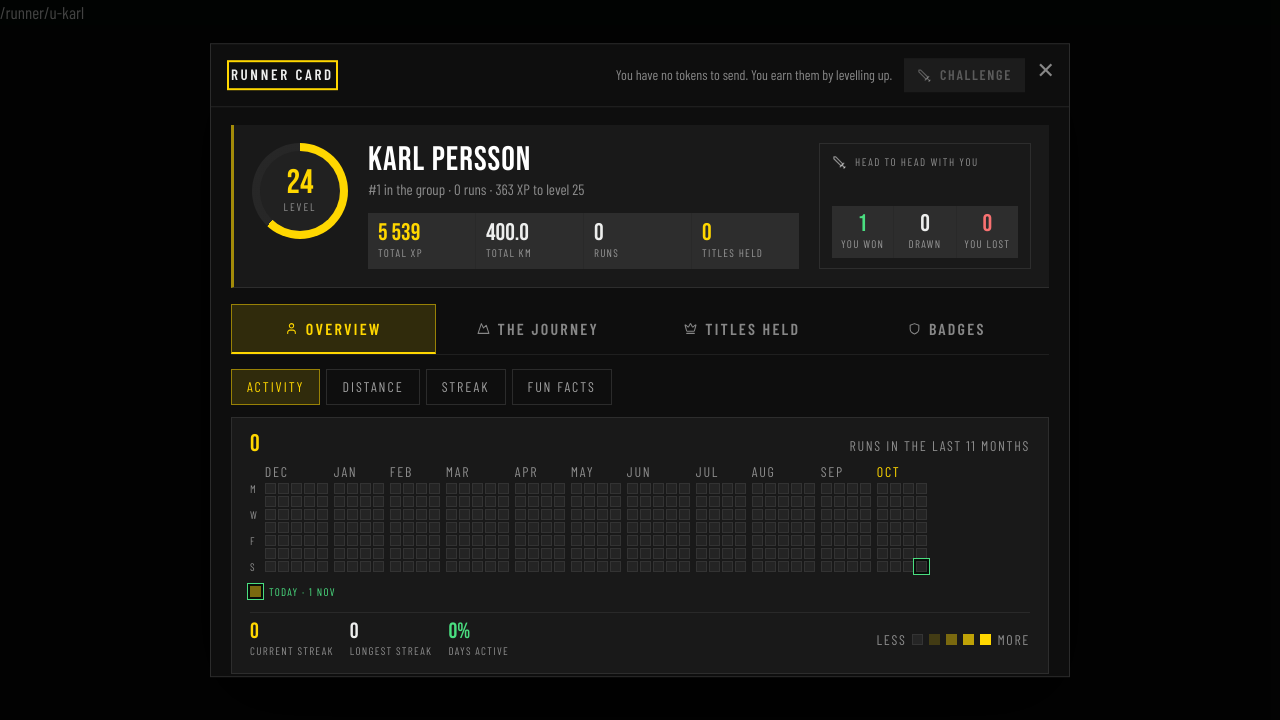
the Badges tab of the popup › shows the loader while the badges load
Expected: the heading "Karl Persson" is shown, x1=368 y1=144 x2=531 y2=178
Click the tab "Badges". click: (947, 329)
box: x1=844 y1=304 x2=1049 y2=354
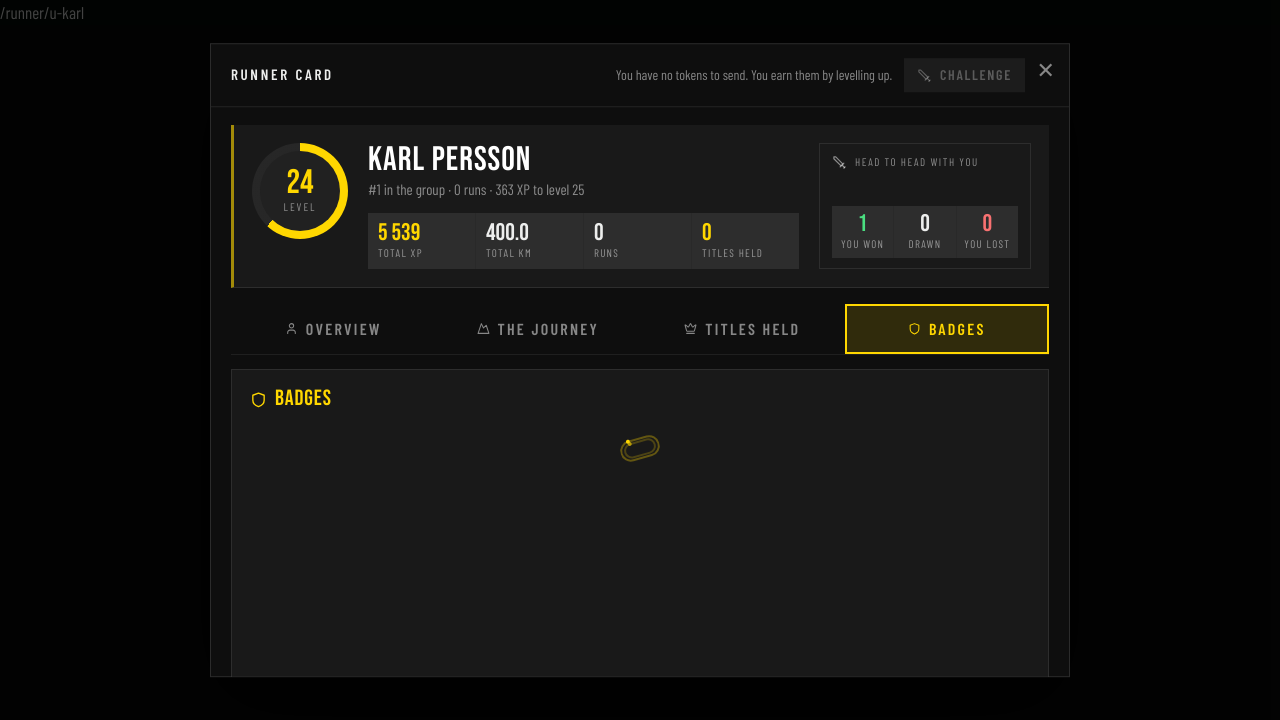
Result: the message reads "Loading badges" at x1=617 y1=419 x2=710 y2=463
